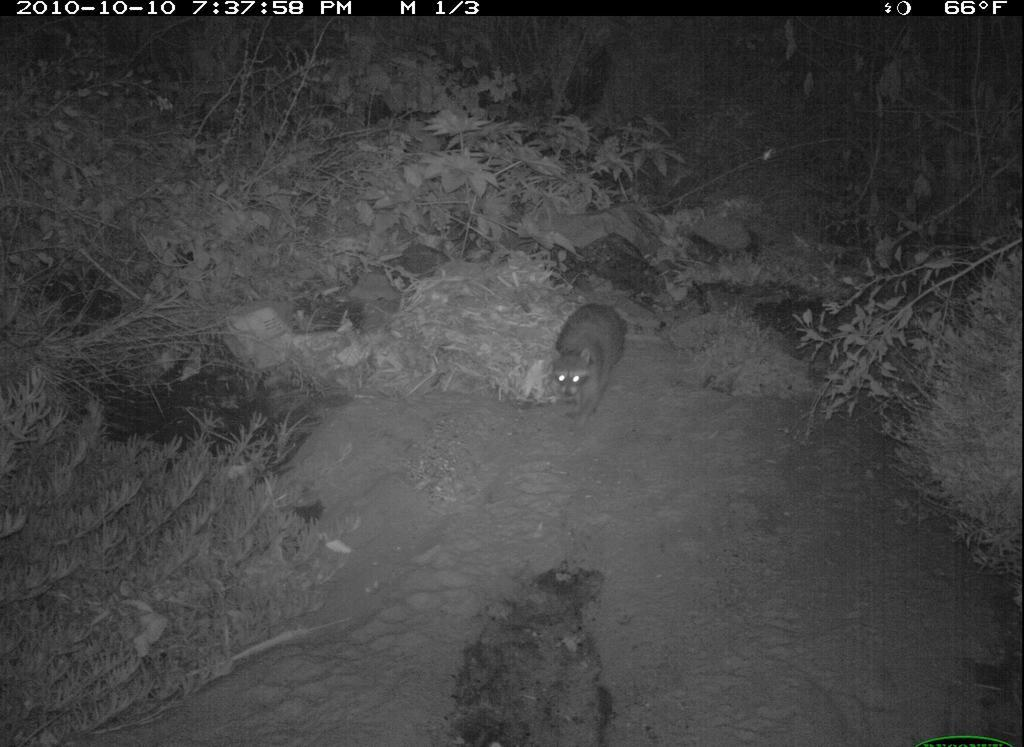raccoon: (543, 294, 637, 443)
